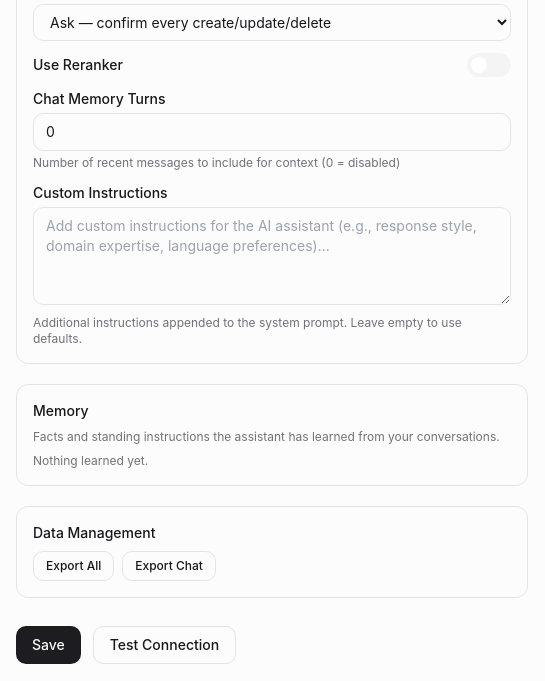
Scenario: SettingsPage › shows save success feedback
(page scrolled)
Click the button with test id "save-button" at (48,645), box [16, 626, 81, 664]
(page scrolled)
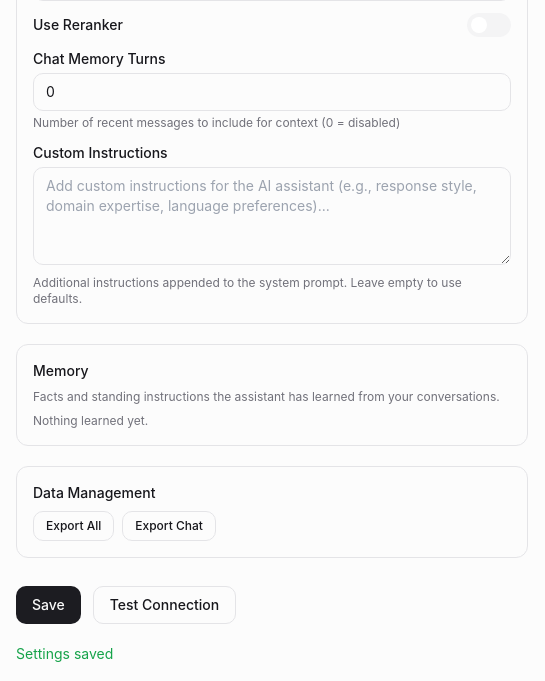
Expected: the text "Settings saved" is shown, [16, 645, 113, 662]
